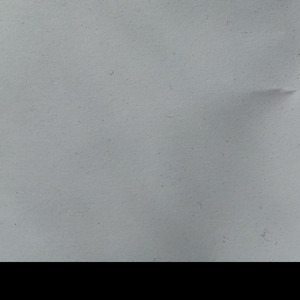base: (1, 1, 300, 260)
